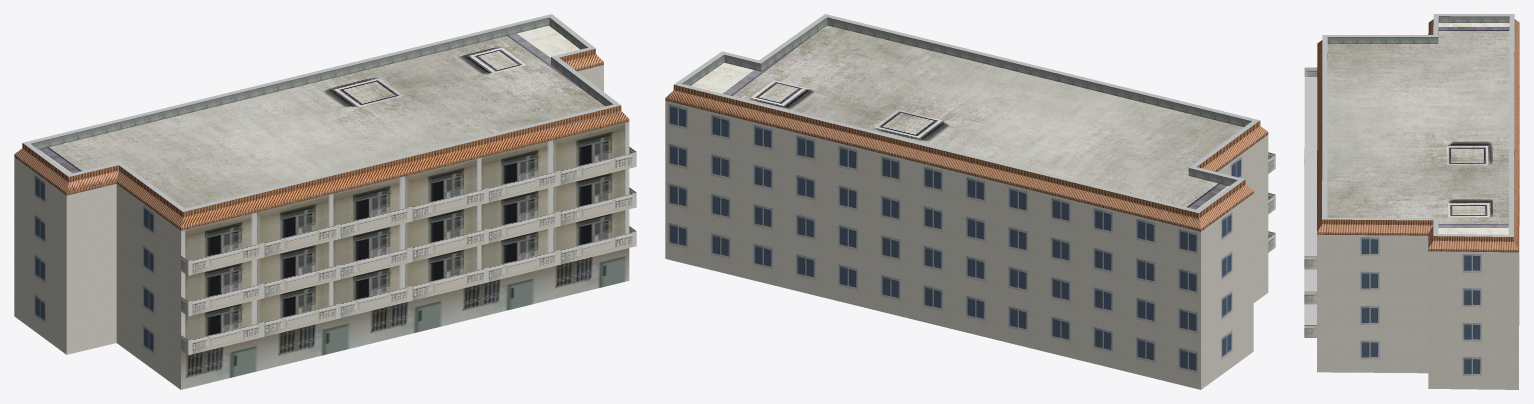
The picture shows the model from 3 angles, left to right: view 1: azimuth 30°, elevation 25°; view 2: azimuth 150°, elevation 25°; view 3: azimuth 270°, elevation 25°; orthographic projection. The views are drawn at different scales.
Visible parts, largest first — view 1: jz14; view 2: jz14; view 3: jz14.
Part boxes in pixels (x1,y1,x2,y2): jz14: (14,14,636,389); jz14: (665,14,1275,389); jz14: (1304,14,1519,389).
Bounding box in the file's own units: 4237 × 1309 × 1696.
10 materials, 10 textured.
